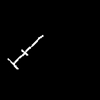double_crochet: (8, 35, 42, 68)
